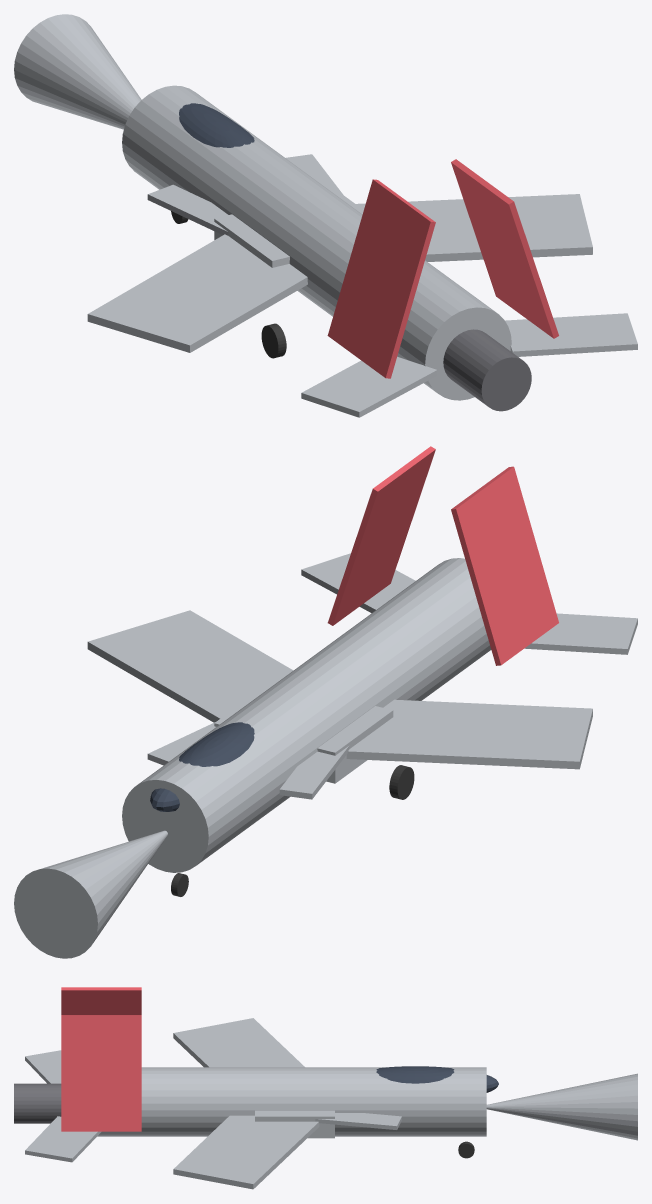
File: boeing_t7a_redhawk.glb
3 renders of one model, top to bottom at view 1: azimuth 30°, elevation 25°; view 2: azimuth 150°, elevation 25°; view 3: azimuth 270°, elevation 25°, orthographic. The views are drawn at different scales.
Visible parts, largest first — view 1: T7A_Fuselage, Cube.005, T7A_Red_Tail_L, Cone, T7A_Red_Tail_R, Cube.002, Cylinder, Cube, Cube.001, T7A_Cockpit, Cube.006, Cube.007 (+2 smaller); view 2: T7A_Fuselage, Cube.005, T7A_Red_Tail_L, Cube.002, Cone, T7A_Red_Tail_R, Cube.001, T7A_Cockpit, Cube.007, Cube, Cube.006, Cube.003 (+1 smaller); view 3: T7A_Fuselage, T7A_Red_Tail_R, Cube.002, Cone, Cube.005, T7A_Red_Tail_L, Cylinder, Cube, T7A_Cockpit, Cube.004, Cube.003, Cube.001.
Boxes of the visible parts, x1,y1,x2,y2 form: T7A_Fuselage: [122, 85, 511, 400]; Cube.005: [87, 234, 307, 352]; T7A_Red_Tail_L: [327, 179, 435, 378]; Cone: [14, 14, 141, 129]; T7A_Red_Tail_R: [451, 159, 558, 338]; Cube.002: [356, 194, 592, 261]; Cylinder: [443, 329, 531, 411]; Cube: [505, 313, 637, 356]; Cube.001: [301, 356, 437, 417]; T7A_Cockpit: [179, 103, 254, 147]; Cube.006: [147, 184, 228, 235]; Cube.007: [214, 214, 289, 267]; T7A_Fuselage: [122, 558, 491, 872]; Cube.005: [346, 699, 592, 769]; T7A_Red_Tail_L: [451, 466, 558, 665]; Cube.002: [87, 610, 293, 722]; Cone: [14, 830, 167, 958]; T7A_Red_Tail_R: [327, 446, 435, 625]; Cube.001: [524, 613, 637, 654]; T7A_Cockpit: [150, 722, 254, 811]; Cube.007: [317, 706, 393, 783]; Cube: [301, 553, 415, 613]; Cube.006: [279, 746, 349, 799]; Cube.003: [147, 722, 215, 765]; T7A_Fuselage: [97, 1067, 486, 1136]; T7A_Red_Tail_R: [61, 1015, 141, 1131]; Cube.002: [173, 1115, 319, 1189]; Cone: [486, 1073, 637, 1140]; Cube.005: [173, 1018, 304, 1067]; T7A_Red_Tail_L: [61, 987, 141, 1014]; Cylinder: [14, 1083, 61, 1123]; Cube: [25, 1116, 101, 1162]; T7A_Cockpit: [376, 1066, 498, 1092]; Cube.004: [255, 1110, 334, 1138]; Cube.003: [315, 1113, 401, 1129]; Cube.001: [25, 1050, 61, 1083].
Bounding box in the file's own units: 10.78 × 4.76 × 17.1.
